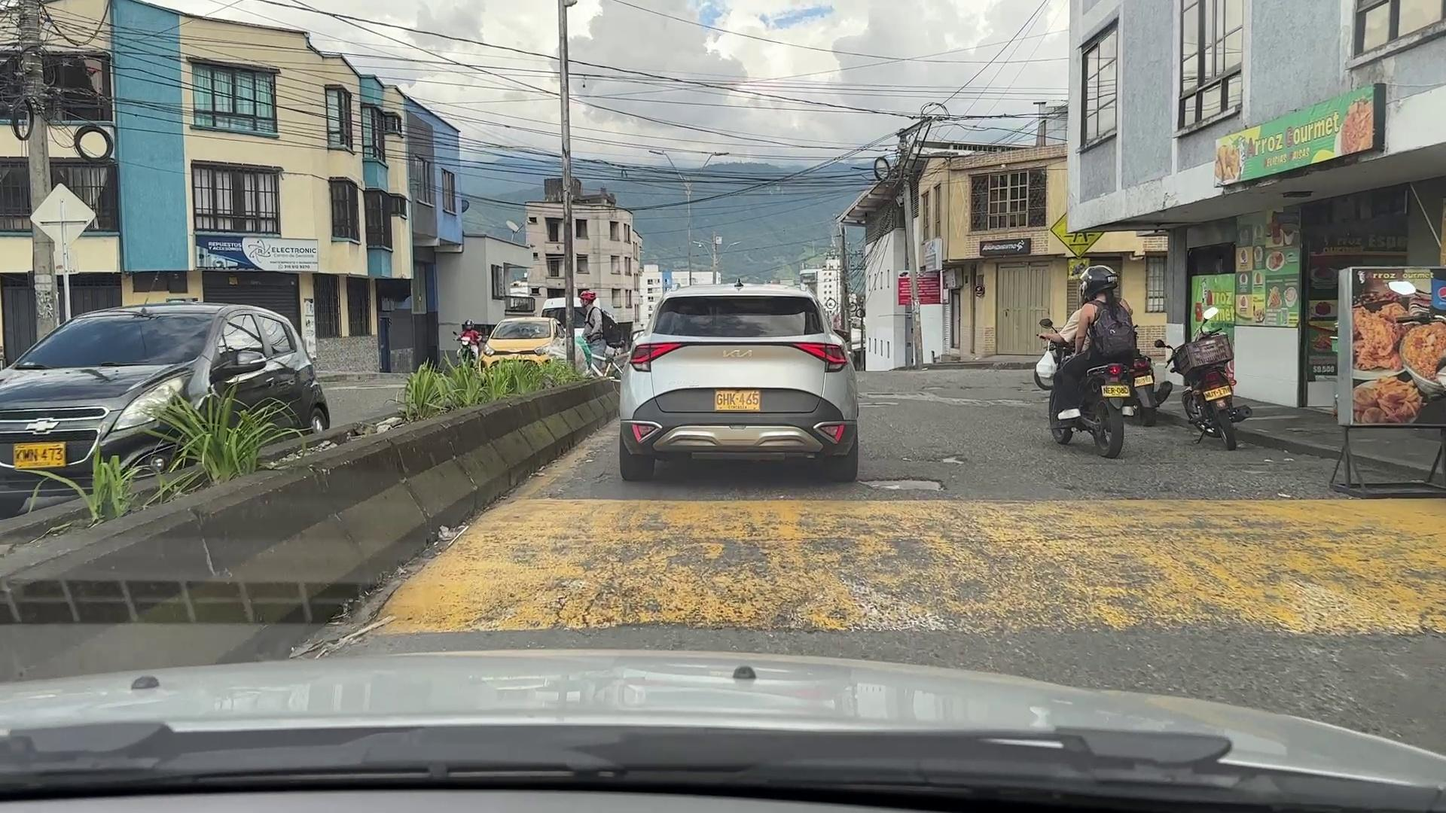bache: (861, 480, 941, 491), (942, 455, 965, 464)
